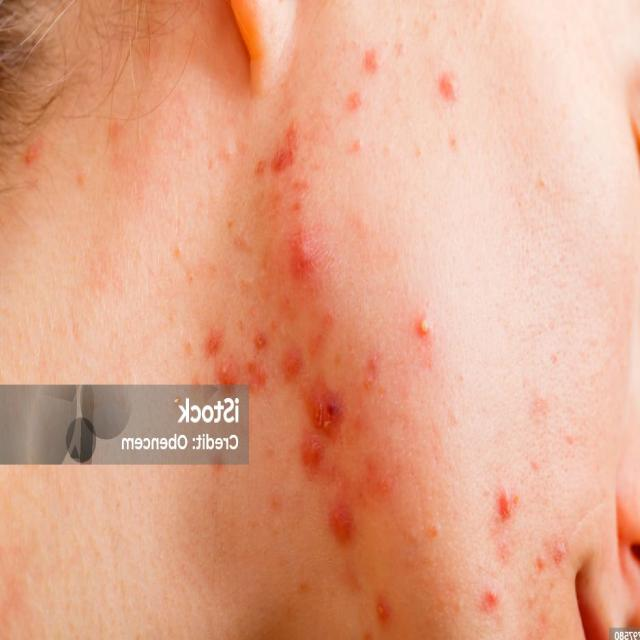nodule: (292, 369, 353, 444)
papule: (270, 116, 311, 178), (360, 334, 393, 407), (430, 59, 471, 110), (277, 331, 311, 392), (472, 575, 510, 628), (285, 227, 319, 286), (487, 479, 524, 531), (11, 129, 47, 180), (323, 497, 357, 549), (306, 302, 337, 354), (295, 437, 329, 483), (339, 556, 374, 594), (356, 42, 387, 83), (201, 317, 227, 361), (244, 355, 270, 399), (288, 174, 312, 221), (339, 83, 370, 117), (374, 583, 397, 628), (550, 524, 570, 570), (345, 128, 368, 161), (250, 322, 269, 355), (533, 544, 547, 572), (360, 620, 374, 640)
pustule: (399, 295, 446, 352)
